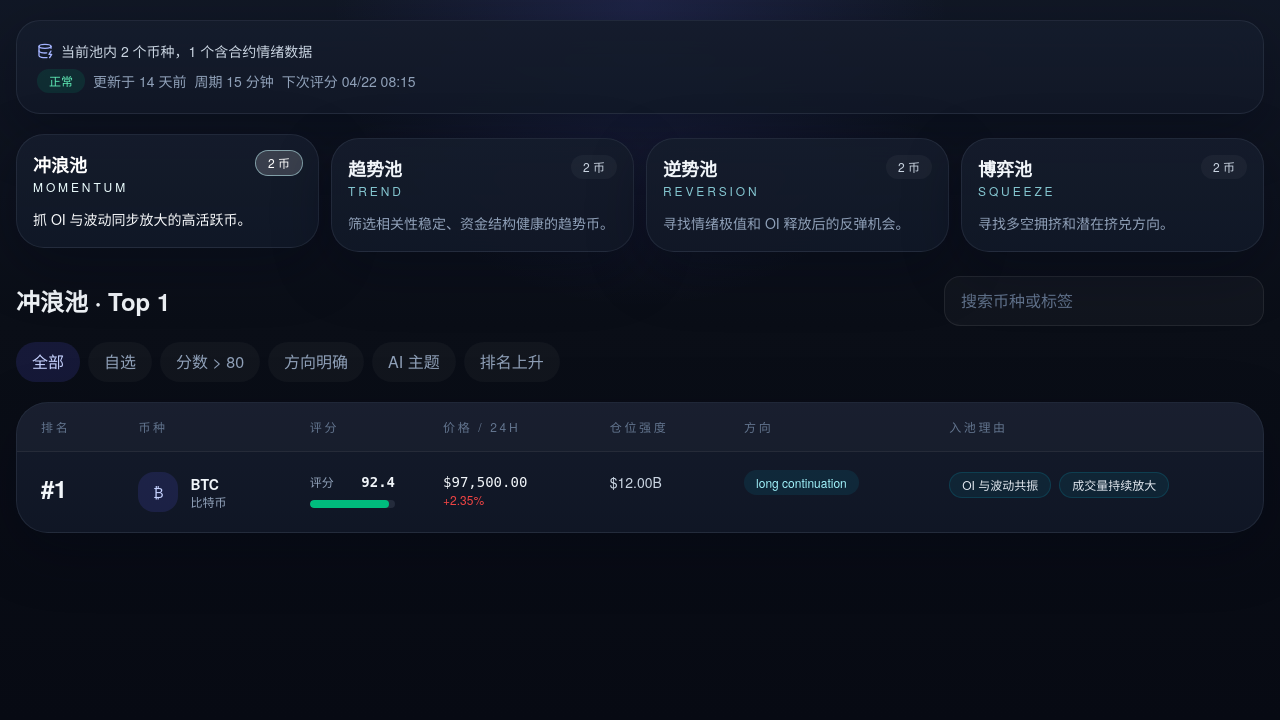
Test: RankingExplorer › updates visible rows when searching inside the active pool
The width and height of the screenshot is (1280, 720).
Type "tao" into the field with placeholder "搜索币种或标签".
click(1104, 301); type("tao")  # box [944,276,1264,326]
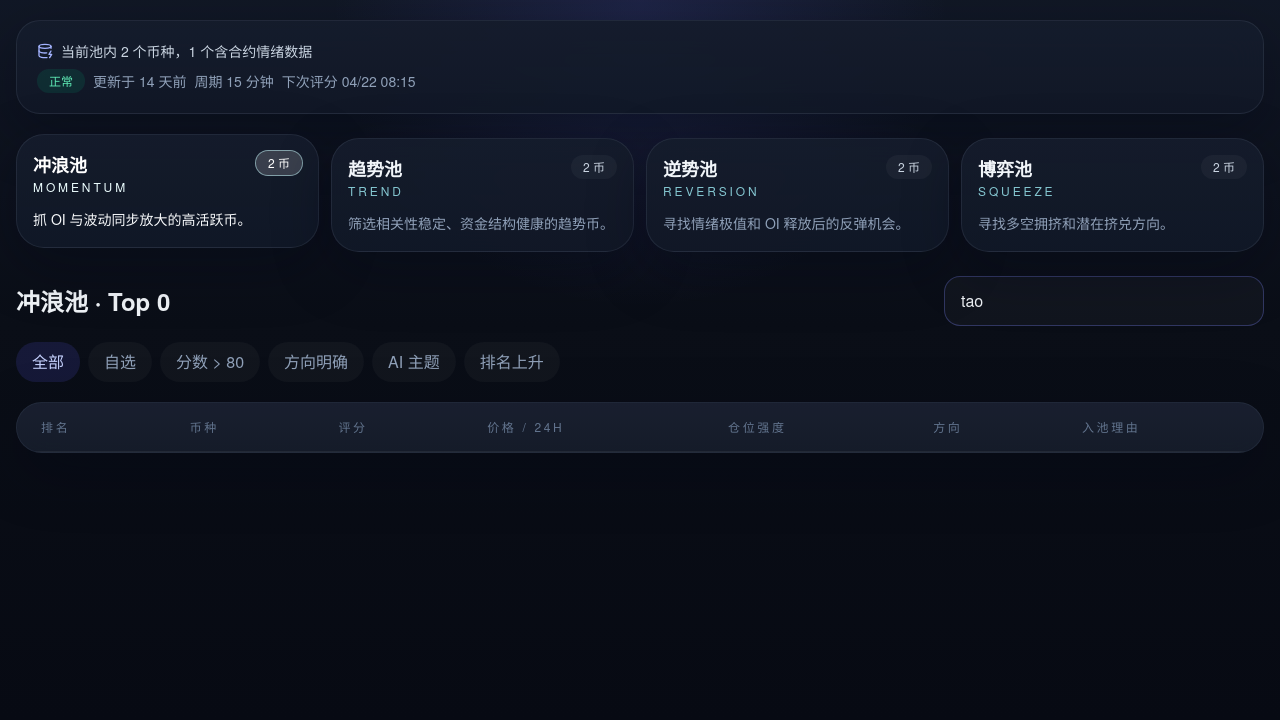
Result: the heading "冲浪池 · Top 0" is shown at [16,285,170,317]
